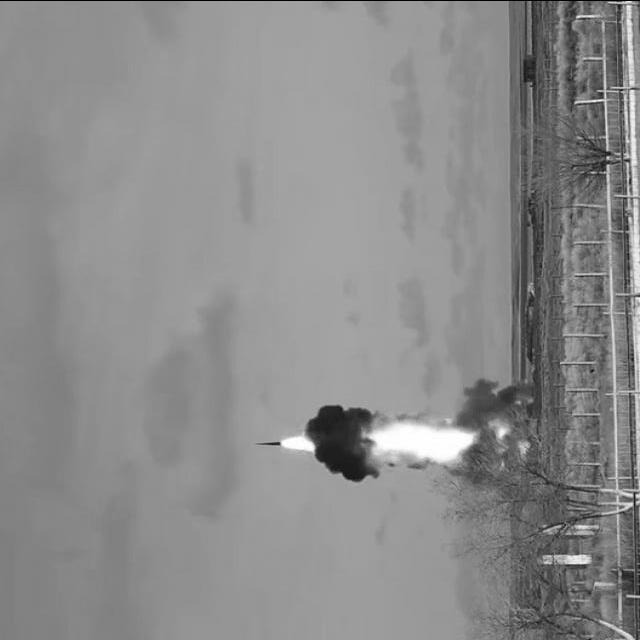missile: (250, 436, 290, 452)
